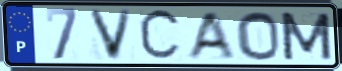7: (44, 6, 80, 63)
A: (183, 10, 237, 61)
C: (137, 6, 183, 64)
M: (277, 10, 335, 62)
O: (234, 10, 283, 62)
V: (86, 8, 135, 62)
